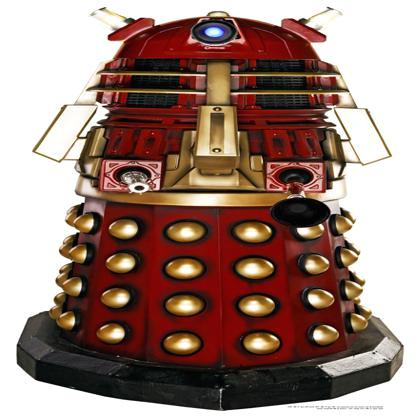dalek: (14, 0, 393, 406)
